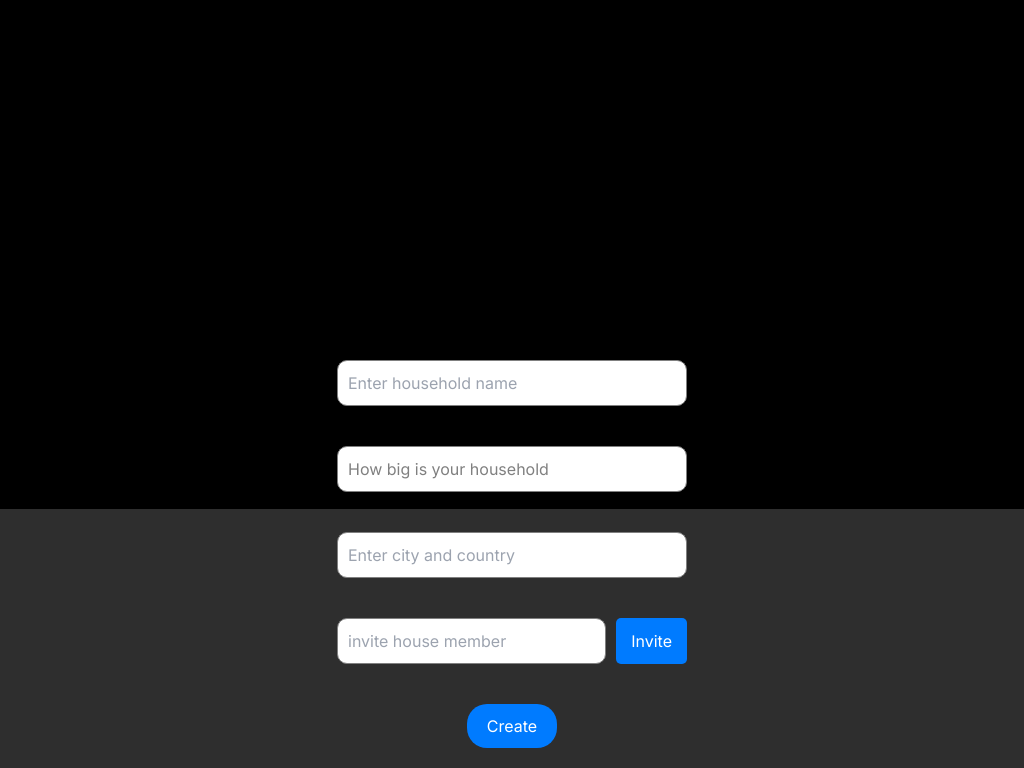
Test: CreateHouseHold Component › Email Interactions › adds a valid email correctly
(page scrolled)
Type "test@email.com" into the field with placeholder "invite house member" at (472, 641), box [337,618,606,664]
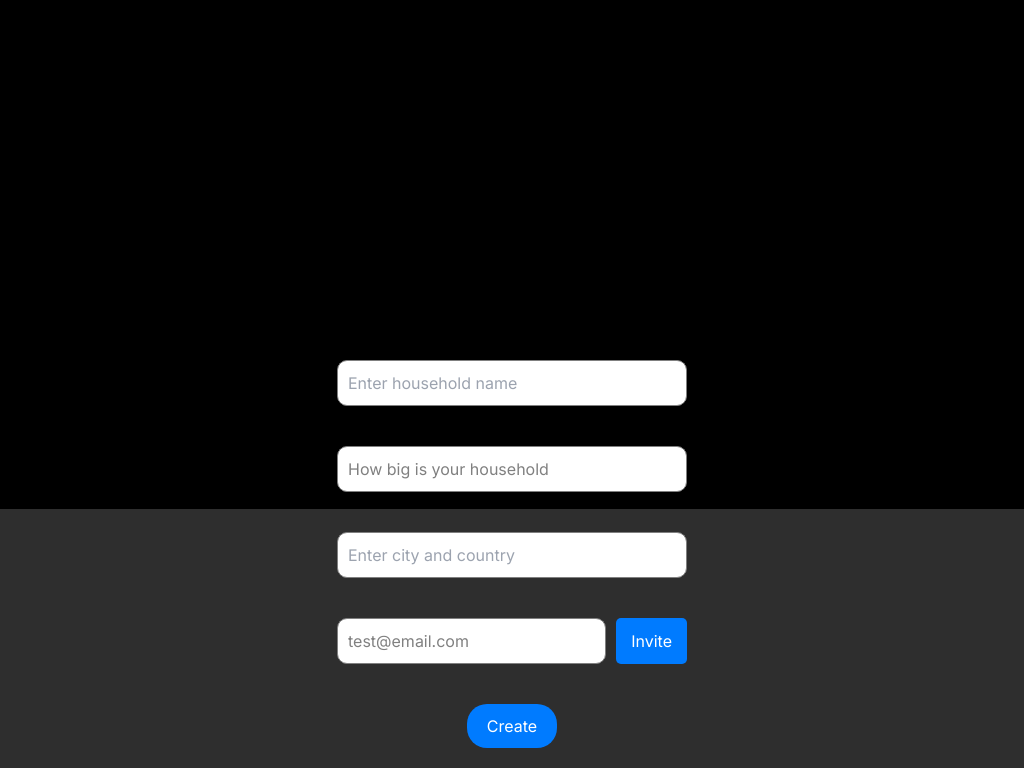
Click the button "Invite" at (652, 641), box [616,618,687,664]
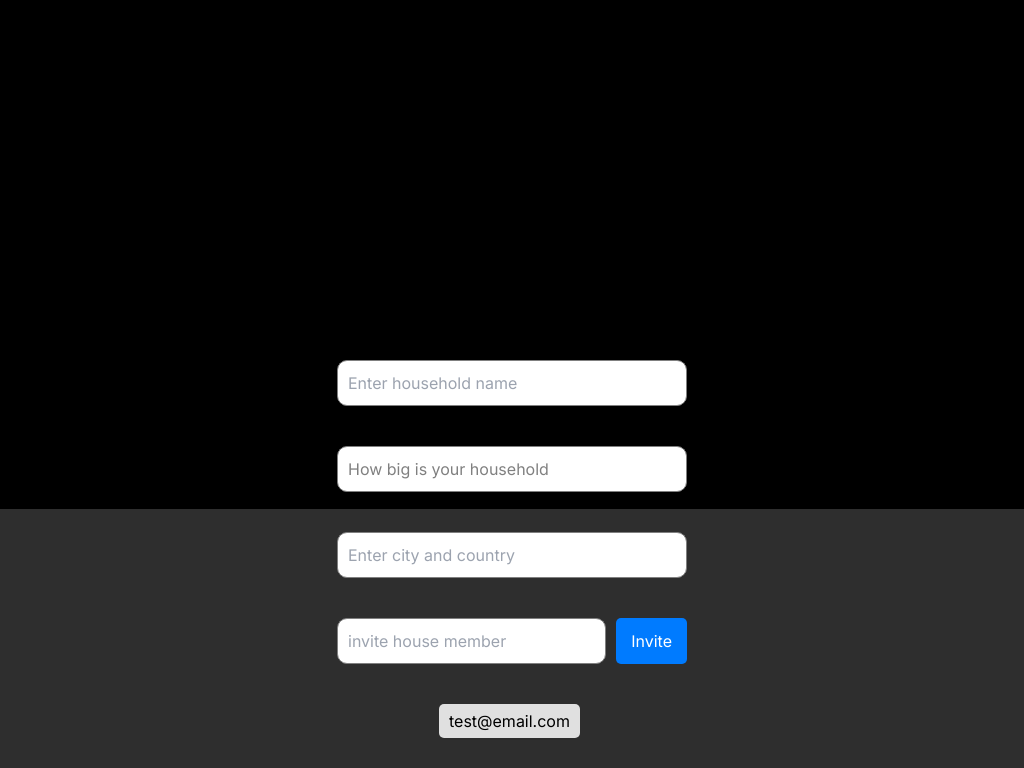
Now the text "test@email.com" is shown, box [439,704,580,738]
